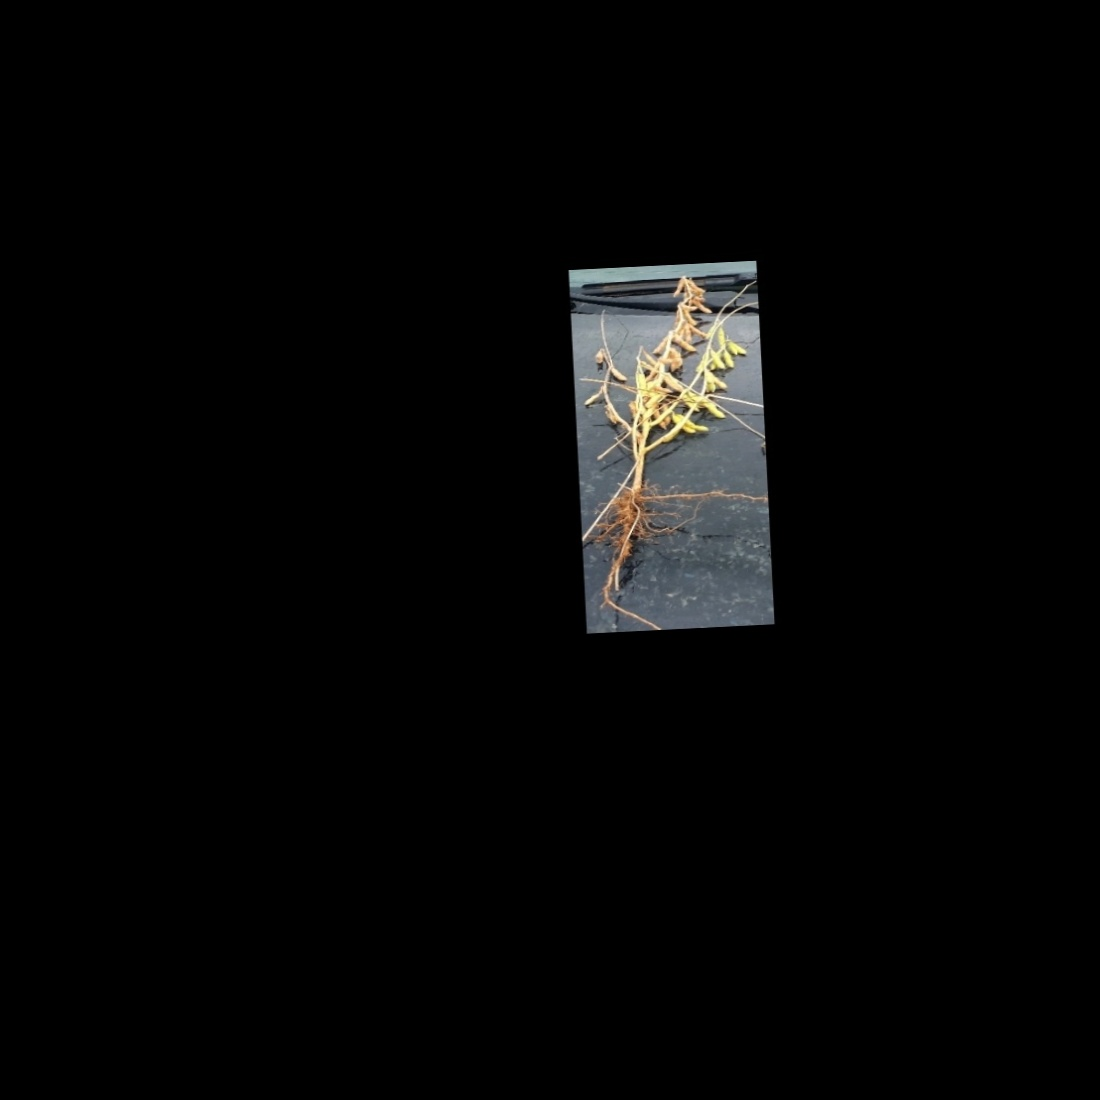pod: (701, 397, 728, 421), (670, 332, 699, 353), (582, 388, 606, 407), (606, 366, 630, 383), (726, 339, 748, 356), (720, 347, 735, 370), (671, 276, 685, 299)
soy: (573, 266, 762, 625)
